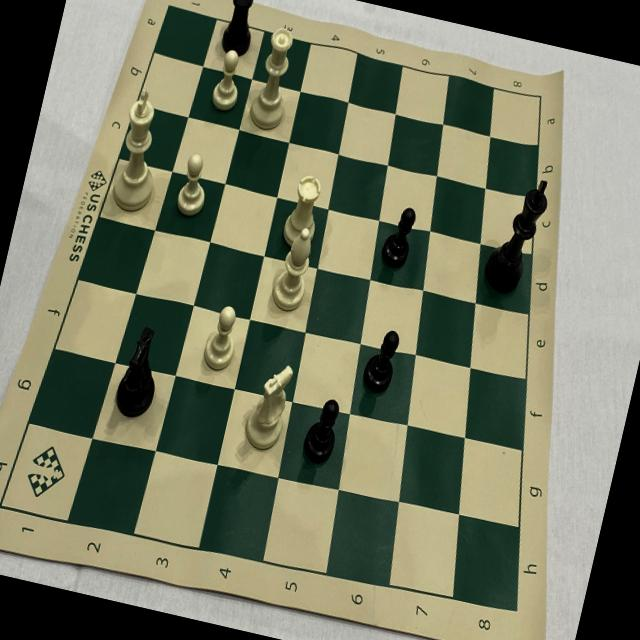black-king: (474, 164, 560, 305)
black-knight: (108, 320, 174, 428)
black-pawn: (354, 317, 408, 403), (296, 388, 349, 470), (374, 202, 421, 280)
black-rook: (212, 0, 266, 62)
white-bishop: (266, 221, 324, 317)
white-king: (102, 81, 178, 220)
white-knight: (237, 352, 300, 459)
white-pawn: (193, 294, 248, 379), (167, 143, 219, 225), (202, 42, 255, 119)
white-queen: (242, 20, 308, 140)
white-rook: (276, 167, 332, 256)
